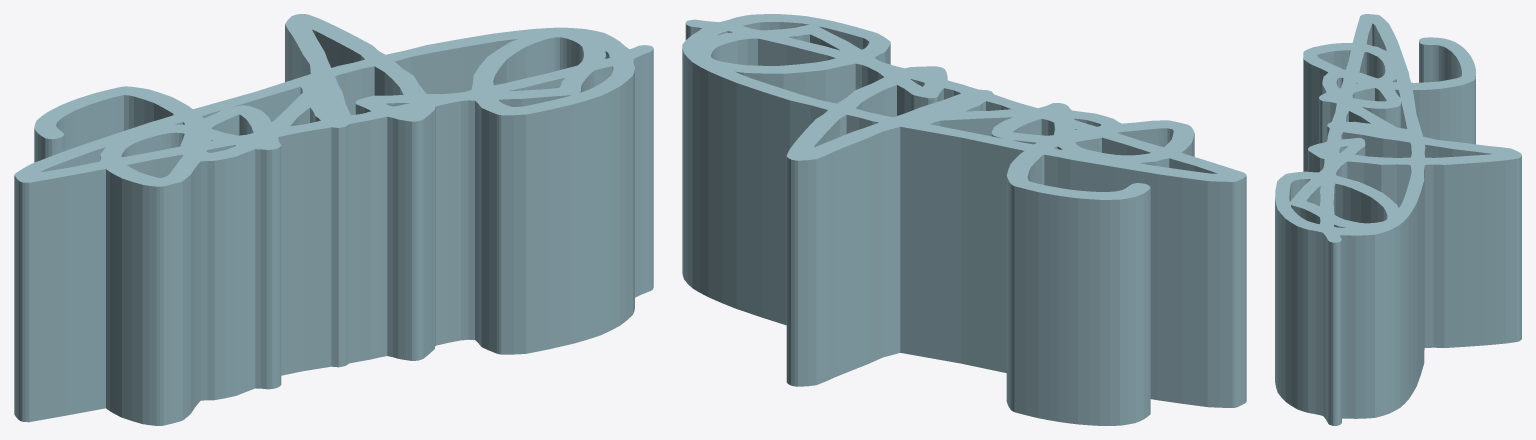
File: Amazing Wolt-Gaaris.glb
3 views of the same model, side by side, from view 1: azimuth 30°, elevation 25°; view 2: azimuth 150°, elevation 25°; view 3: azimuth 270°, elevation 25° (orthographic). The views are drawn at different scales.
Parts seen in each view (by area): view 1: Mesh_Mesh_head_geo.001_lambert2SG.001; view 2: Mesh_Mesh_head_geo.001_lambert2SG.001; view 3: Mesh_Mesh_head_geo.001_lambert2SG.001.
Boxes of the visible parts, x1=… form: Mesh_Mesh_head_geo.001_lambert2SG.001: x1=14, y1=14, x2=653, y2=425; Mesh_Mesh_head_geo.001_lambert2SG.001: x1=682, y1=14, x2=1246, y2=425; Mesh_Mesh_head_geo.001_lambert2SG.001: x1=1275, y1=14, x2=1521, y2=425.
Bounding box in the file's own units: 0.0616 × 0.023 × 0.0281.
